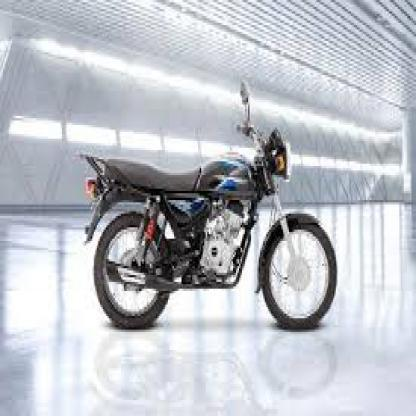Motorcycle: (77, 75, 347, 334)
